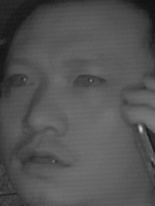eye: (72, 70, 108, 90), (8, 71, 37, 89)
mouth: (13, 140, 76, 177)
